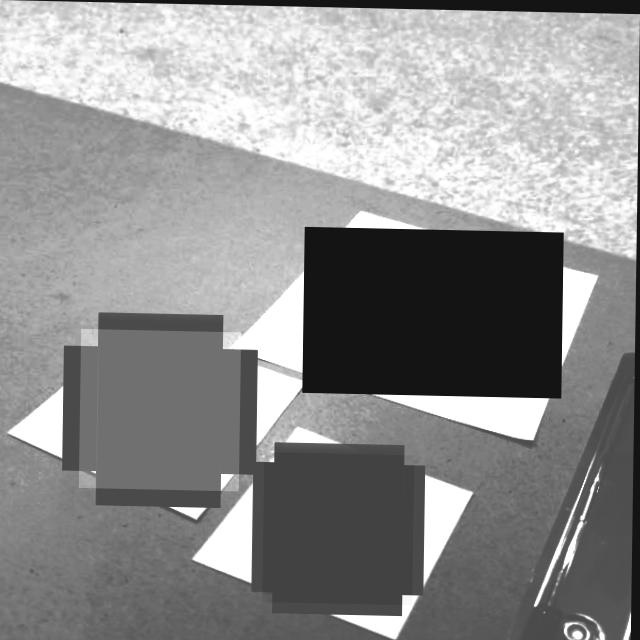qr_code: (304, 225, 564, 396), (80, 329, 242, 490), (264, 451, 416, 603)
